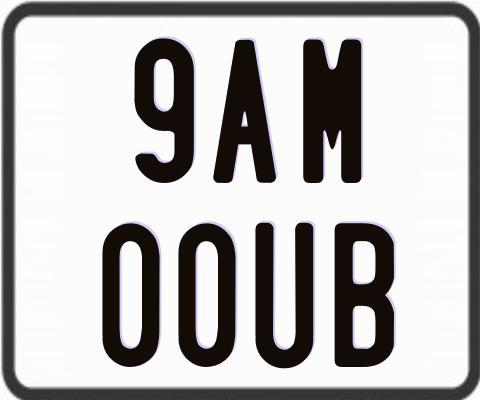0: (99, 221, 163, 370), (176, 222, 236, 366)
9: (131, 38, 194, 186)
A: (211, 37, 278, 180)
B: (332, 222, 397, 370)
M: (302, 37, 360, 184)
U: (253, 221, 316, 372)
